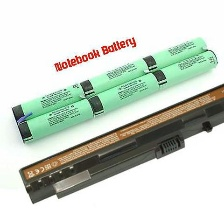battery: (15, 96, 95, 146), (85, 70, 162, 117), (8, 79, 85, 125), (77, 56, 152, 101), (149, 48, 215, 92), (141, 34, 209, 75)
